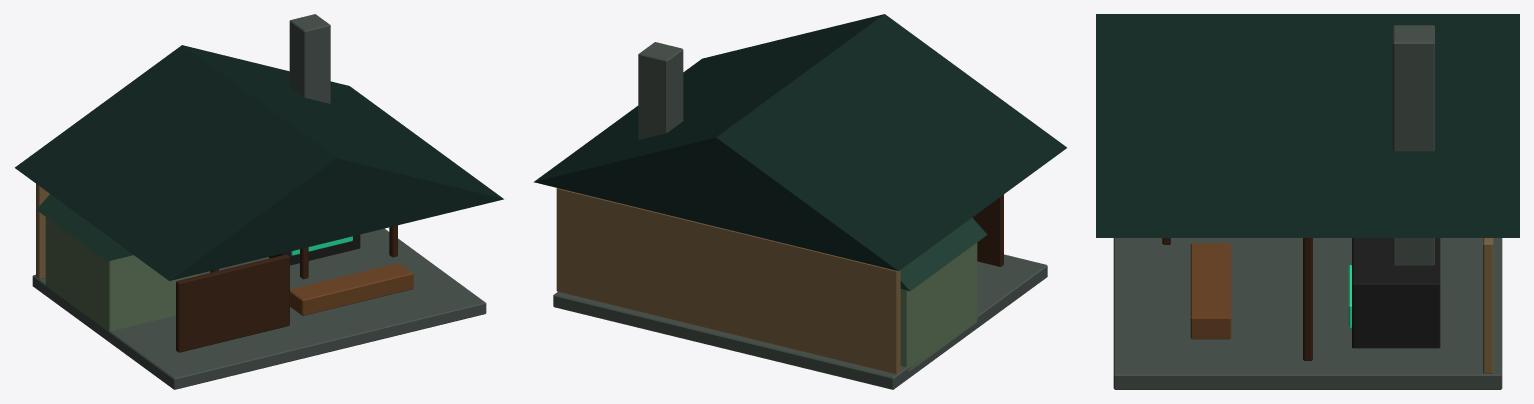
File: LumenCraftWorkshopV2.glb
The picture shows the model from 3 angles, left to right: view 1: azimuth 30°, elevation 25°; view 2: azimuth 150°, elevation 25°; view 3: azimuth 270°, elevation 25°; orthographic projection. The views are drawn at different scales.
Parts seen in each view (by area): view 1: LumenCraftWorkshopV2; view 2: LumenCraftWorkshopV2; view 3: LumenCraftWorkshopV2.
Part boxes in pixels (x1=…): LumenCraftWorkshopV2: x1=15, y1=14, x2=503, y2=389; LumenCraftWorkshopV2: x1=533, y1=14, x2=1066, y2=389; LumenCraftWorkshopV2: x1=1096, y1=14, x2=1519, y2=389.
Bounding box in the file's own units: 30 × 19.5 × 24.
Materials: 1 (1 with a texture image).
